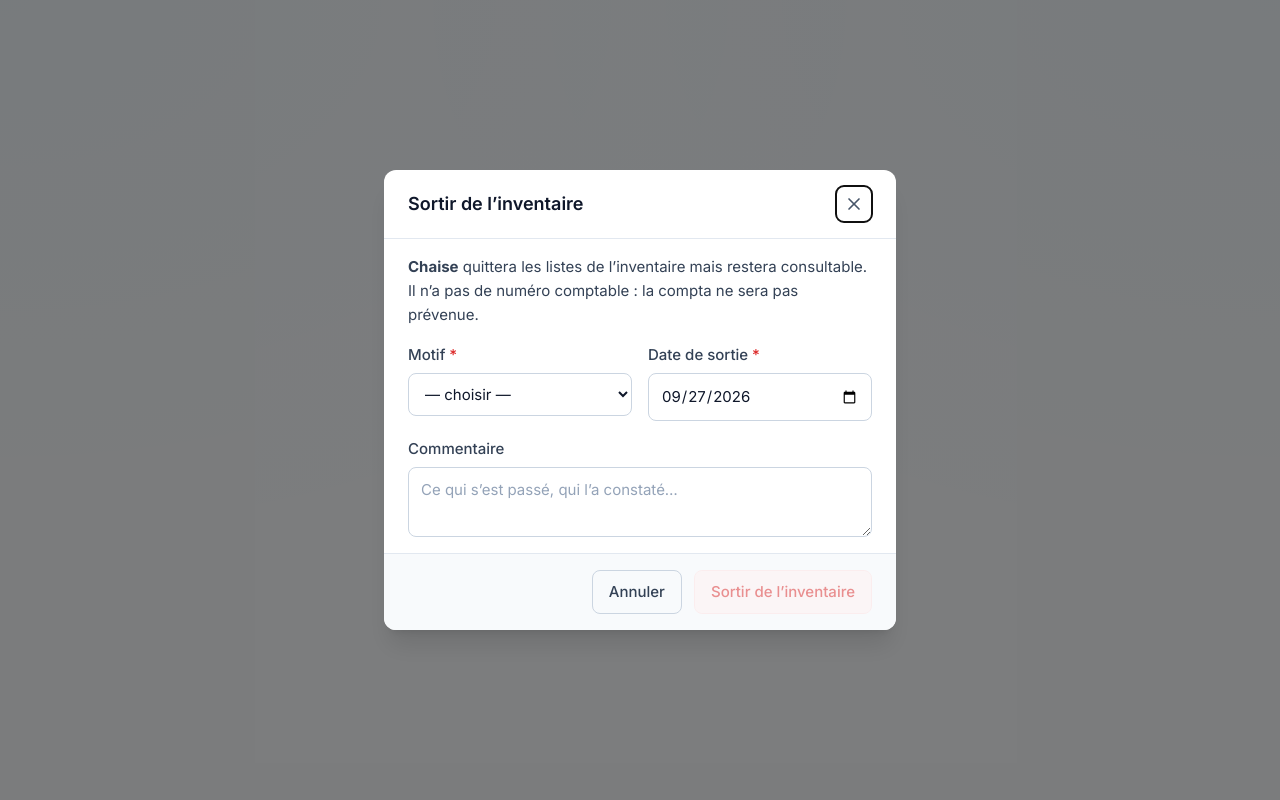
it: FenetreSortie › prévient quand la compta ne sera pas concernée, et demande le prix d’une vente
Expected: the text "la compta ne sera pas prévenue" is shown, [408,281,798,324]
Expected: the field labelled "Prix de vente" is not shown
Select "Vendu" in the dropdown labelled "Motif *": (520, 394) [408,373,632,416]
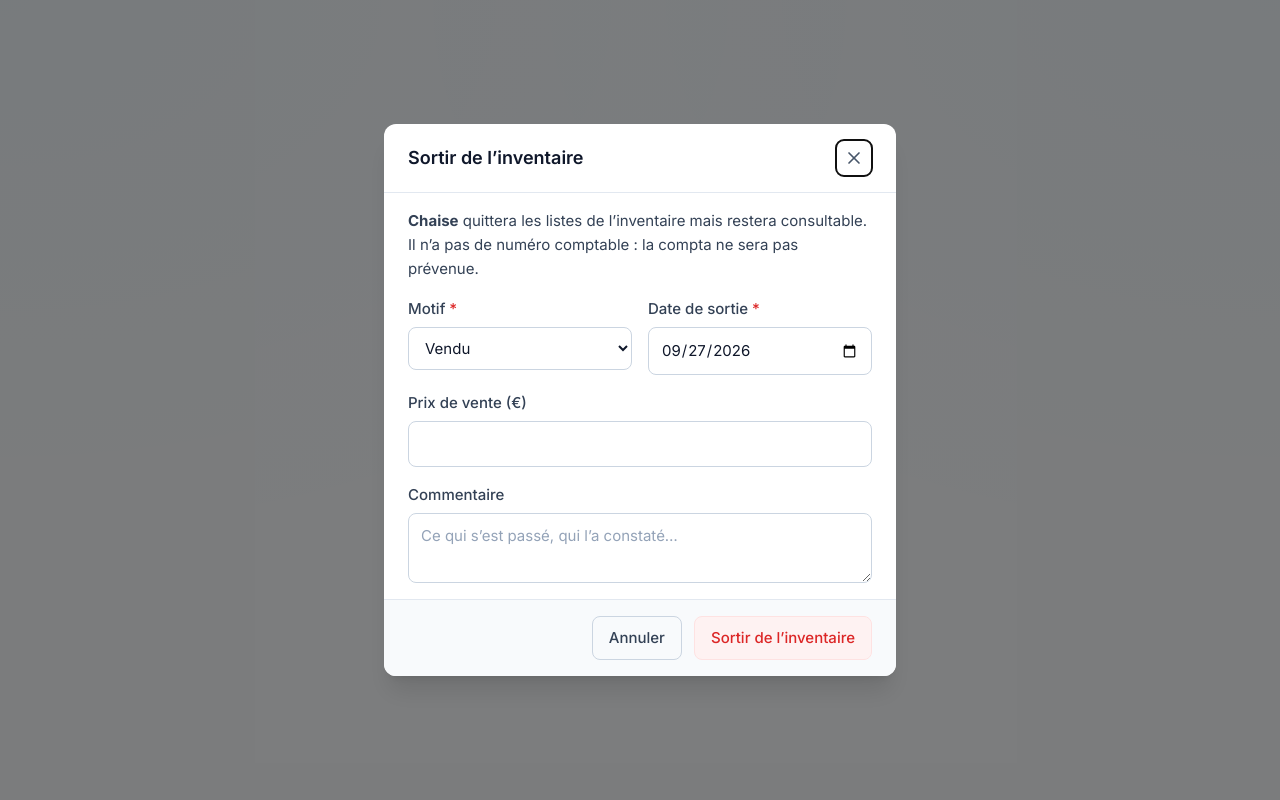
Now the field labelled "Prix de vente (€)" is shown, box [408,421,872,467]
